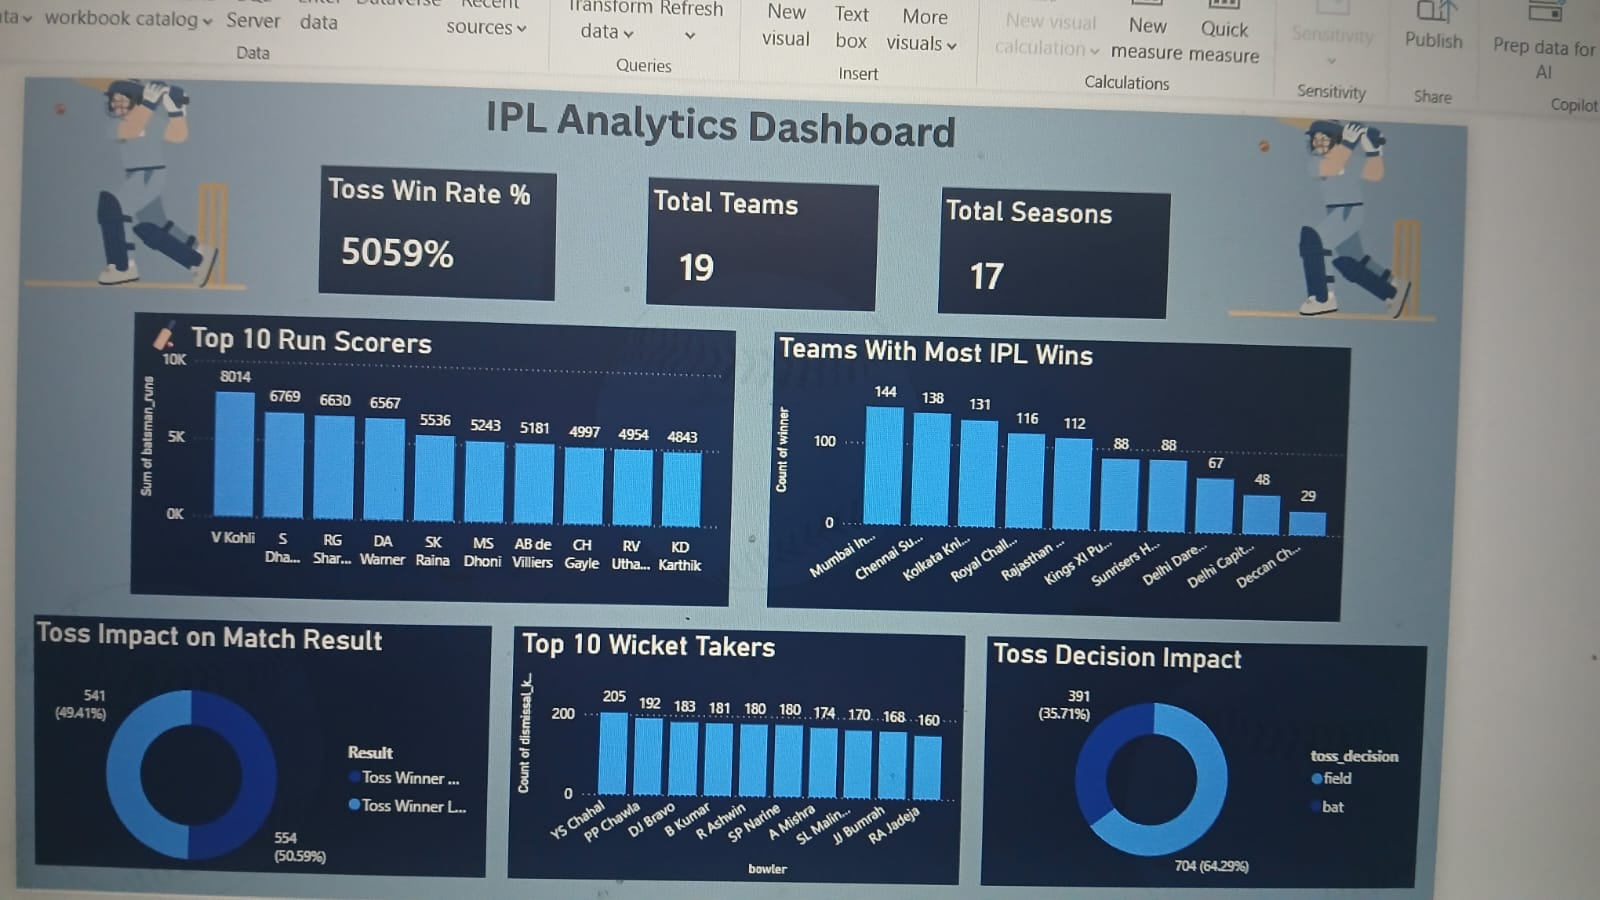

The page's visual inventory and layout, read from the dashboard file:
{"tool":"powerbi","page":{"name":"Page 1","canvas":[1280,720],"ordinal":0},"visuals":[{"type":"cardVisual","title":"Total Teams ","fields":{"Data":["Count(matches.team1)"]},"box":[545.7,77.1,207.1,111.4],"z":7},{"type":"cardVisual","title":"Total Seasons","fields":{"Data":["Count(matches.season)"]},"box":[804.3,77.1,221.4,111.4],"z":8},{"type":"clusteredColumnChart","title":"Teams With Most IPL Wins","fields":{"Category":["matches.winner"],"Y":["CountNonNull(matches.winner)"]},"box":[660,202.9,522.9,252.9],"z":9},{"type":"clusteredColumnChart","title":"🏏 Top 10 Run Scorers","fields":{"Category":["deliveries.batter"],"Y":["Sum(deliveries.batsman_runs)"]},"box":[105.7,202.9,515.7,237.1],"z":10},{"type":"donutChart","title":"Toss Decision Impact","fields":{"Category":["matches.toss_decision"],"Y":["CountNonNull(matches.id)"]},"box":[860,471.4,401.4,222.9],"z":11},{"type":"clusteredColumnChart","title":"Top 10 Wicket Takers","fields":{"Category":["deliveries.bowler"],"Y":["CountNonNull(deliveries.dismissal_kind)"]},"box":[440,471.4,398.6,222.9],"z":12},{"type":"donutChart","title":"Toss Impact on Match Result","fields":{"Category":["TossImpact.Result"],"Y":["Sum(TossImpact.Count)"]},"box":[14.3,471.4,405.7,248.6],"z":13},{"type":"cardVisual","title":"Toss Win Rate %","fields":{"Data":["TossImpact.Toss Win Rate"]},"box":[264.3,77.1,190,102.9],"z":14}]}

Visuals, with their boxes on the page's 1280x720 design canvas (x1, y1, x2, y2). These are canvas units, not pixel positions in the 1600x900 screenshot, which may show the page scaled, cropped or inside an application window:
"Total Teams " cardVisual: select_region(546, 77, 753, 188)
"Total Seasons" cardVisual: select_region(804, 77, 1026, 188)
"Teams With Most IPL Wins" clusteredColumnChart: select_region(660, 203, 1183, 456)
"🏏 Top 10 Run Scorers" clusteredColumnChart: select_region(106, 203, 621, 440)
"Toss Decision Impact" donutChart: select_region(860, 471, 1261, 694)
"Top 10 Wicket Takers" clusteredColumnChart: select_region(440, 471, 839, 694)
"Toss Impact on Match Result" donutChart: select_region(14, 471, 420, 720)
"Toss Win Rate %" cardVisual: select_region(264, 77, 454, 180)
